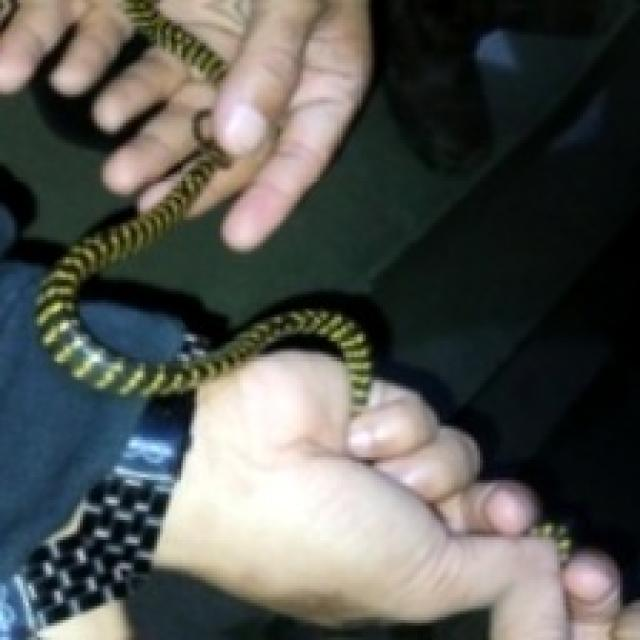mangrove cat snake: (34, 109, 369, 403), (34, 149, 371, 406), (124, 0, 225, 83)
